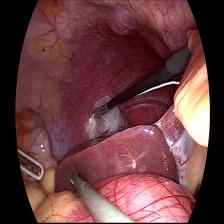Grasper: (17, 148, 51, 188), (90, 105, 109, 121)
Irrigator: (67, 166, 88, 196)
Specimen Bag: (84, 94, 130, 147)
